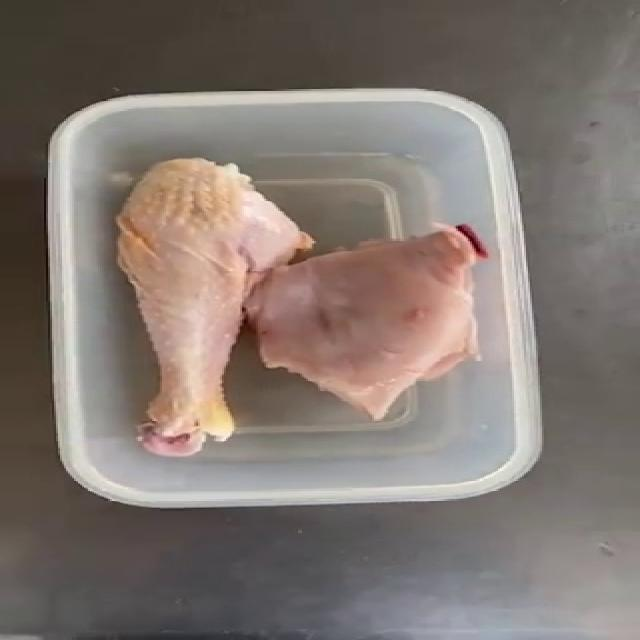chicken: (113, 155, 315, 458), (242, 221, 488, 422)
